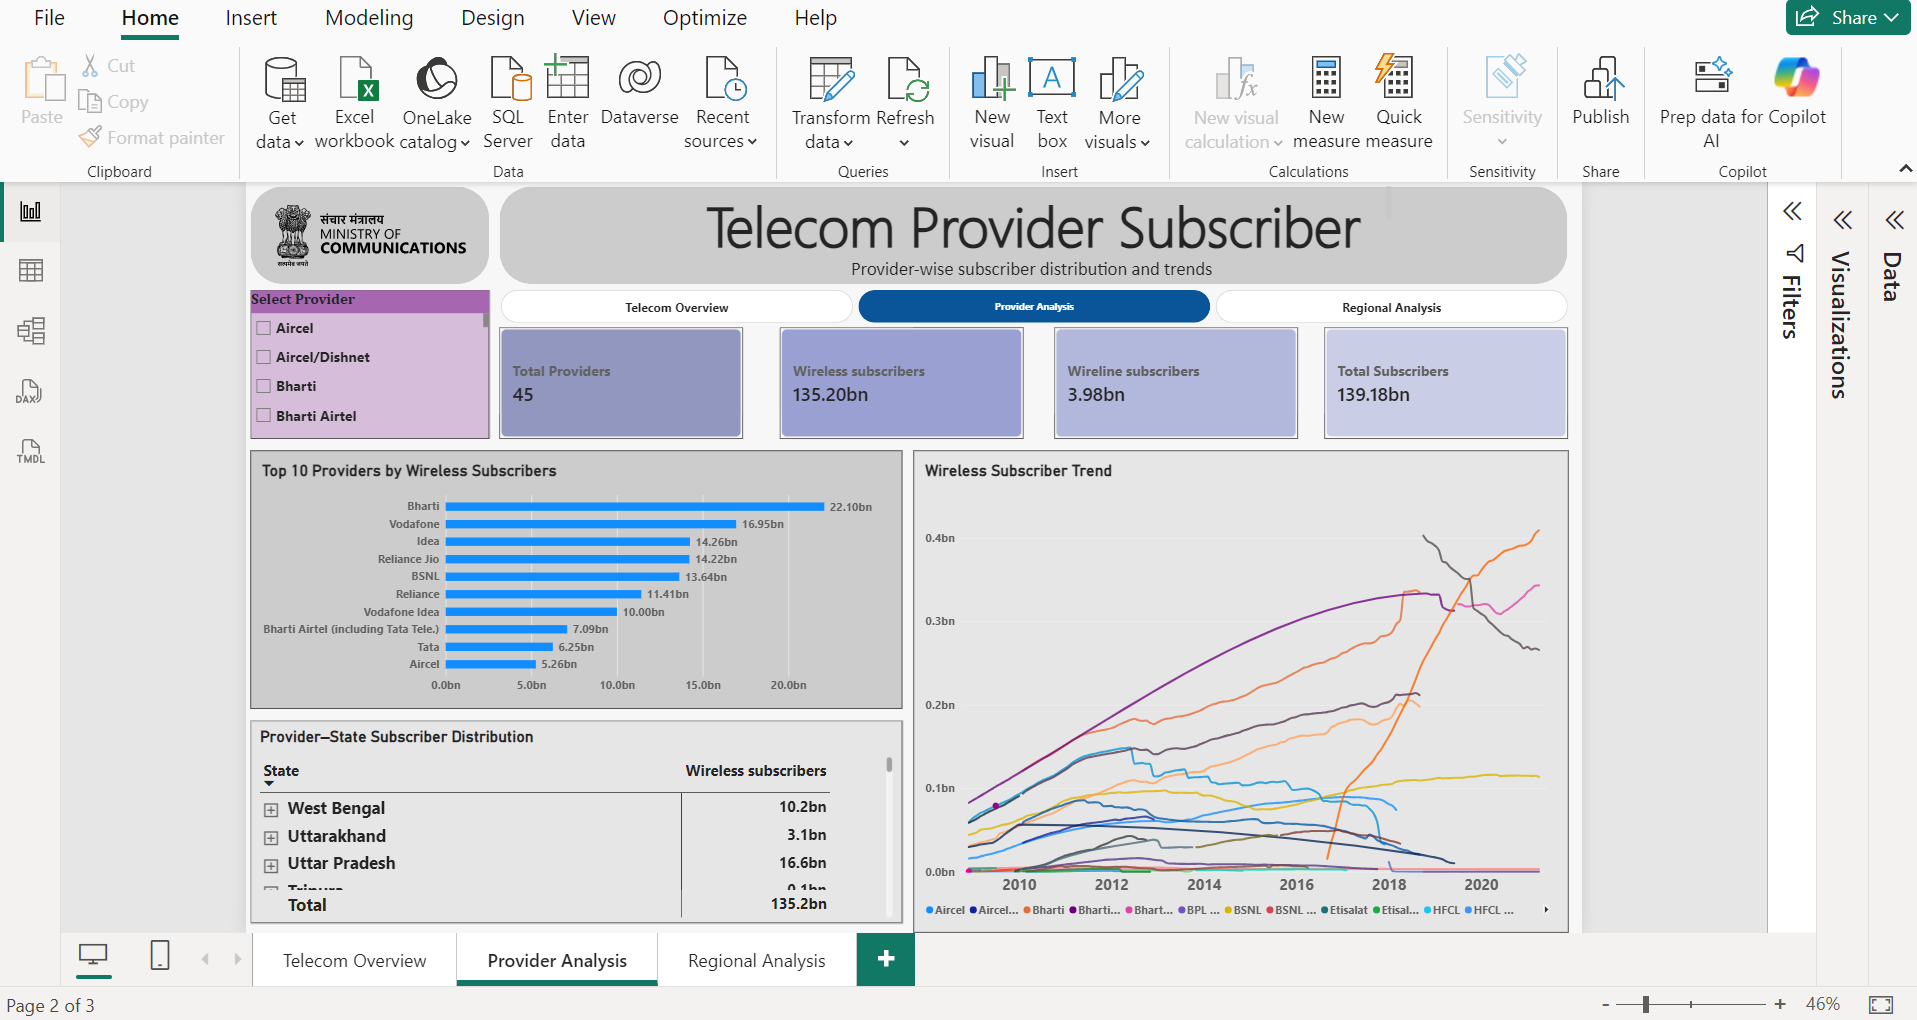

The dashboard page shown, as its layout file describes it:
{"tool":"powerbi","page":{"name":"Provider Analysis","canvas":[1920,1080],"ordinal":1},"visuals":[{"type":"clusteredBarChart","title":"Top 10 Providers by Wireless Subscribers","fields":{"Category":["public vw_provider_analysis.service_provider"],"Y":["Sum(public vw_provider_analysis.total_wireless_subscribers)"]},"box":[6.5,386.6,937.4,371.5],"z":0},{"type":"lineChart","title":"Wireless Subscriber Trend","fields":{"Category":["public vw_provider_monthly_trend.month"],"Y":["Sum(public vw_provider_monthly_trend.wireless_subscribers)"],"Series":["public vw_provider_monthly_trend.service_provider"]},"box":[959,386.6,941.8,693.4],"z":1000},{"type":"slicer","title":"   Select Provider","fields":{"Values":["public dim_provider.service_provider"]},"box":[6.5,155.5,343.4,213.8],"z":2000},{"type":"pivotTable","title":"Provider–State Subscriber Distribution","fields":{"Rows":["public vw_provider_state_analysis.state","public vw_provider_state_analysis.service_provider"],"Values":["Sum(public vw_provider_state_analysis.total_wireless_subscribers)"]},"box":[6.5,775.4,937.4,291.6],"z":3000},{"type":"shape","box":[6.5,6.5,343.4,140.4],"z":4000},{"type":"image","box":[32.4,32.4,293.8,88.6],"z":5000},{"type":"shape","box":[365,6.5,1535.8,140.4],"z":6000},{"type":"textbox","box":[622.3,6.6,1024,101.5],"z":7000},{"type":"textbox","box":[843,108.1,572.6,45.3],"z":8000},{"type":"pageNavigator","box":[367.2,155.5,1535.8,47.5],"z":9000},{"type":"cardVisual","fields":{"Data":["State_Slicer.Total_Provides"]},"box":[365.3,209.1,350,160],"z":10000},{"type":"cardVisual","fields":{"Data":["Sum(public vw_provider_analysis.total_wireless_subscribers)"]},"box":[769,209.1,350,160],"z":11000},{"type":"cardVisual","title":"Wireline Subscribers","fields":{"Data":["Sum(public vw_provider_analysis.total_wireline_subscribers)"]},"box":[1163.1,209.1,350,160],"z":12000},{"type":"cardVisual","fields":{"Data":["State_Slicer.Total Subscribers"]},"box":[1549.9,209.1,350,160],"z":13000}]}

Visuals, with their boxes on the page's 1920x1080 design canvas (x1, y1, x2, y2). These are canvas units, not pixel positions in the 1917x1020 screenshot, which may show the page scaled, cropped or inside an application window:
"Top 10 Providers by Wireless Subscribers" clusteredBarChart: crop(6, 387, 944, 758)
"Wireless Subscriber Trend" lineChart: crop(959, 387, 1901, 1080)
"   Select Provider" slicer: crop(6, 156, 350, 369)
"Provider–State Subscriber Distribution" pivotTable: crop(6, 775, 944, 1067)
shape: crop(6, 6, 350, 147)
image: crop(32, 32, 326, 121)
shape: crop(365, 6, 1901, 147)
textbox: crop(622, 7, 1646, 108)
textbox: crop(843, 108, 1416, 153)
pageNavigator: crop(367, 156, 1903, 203)
cardVisual - State_Slicer.Total_Provides: crop(365, 209, 715, 369)
cardVisual - Sum(public vw_provider_analysis.total_wireless_subscribers): crop(769, 209, 1119, 369)
"Wireline Subscribers" cardVisual: crop(1163, 209, 1513, 369)
cardVisual - State_Slicer.Total Subscribers: crop(1550, 209, 1900, 369)
